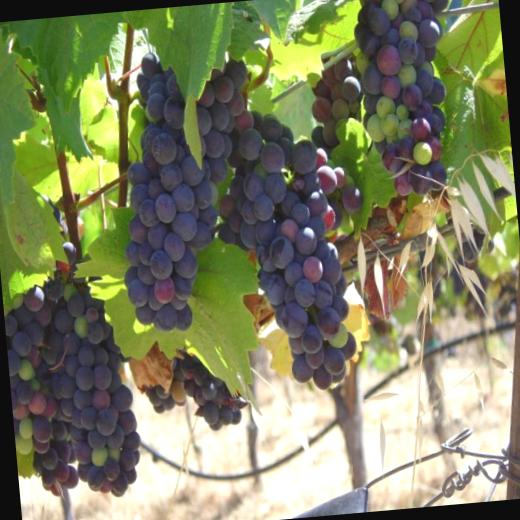Orange: (104, 45, 270, 333), (210, 100, 361, 397), (38, 237, 146, 502), (349, 0, 466, 199), (2, 286, 64, 500), (307, 52, 363, 144), (184, 346, 238, 428), (144, 350, 186, 416)
